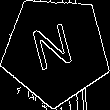N_S: (31, 21, 81, 80)
